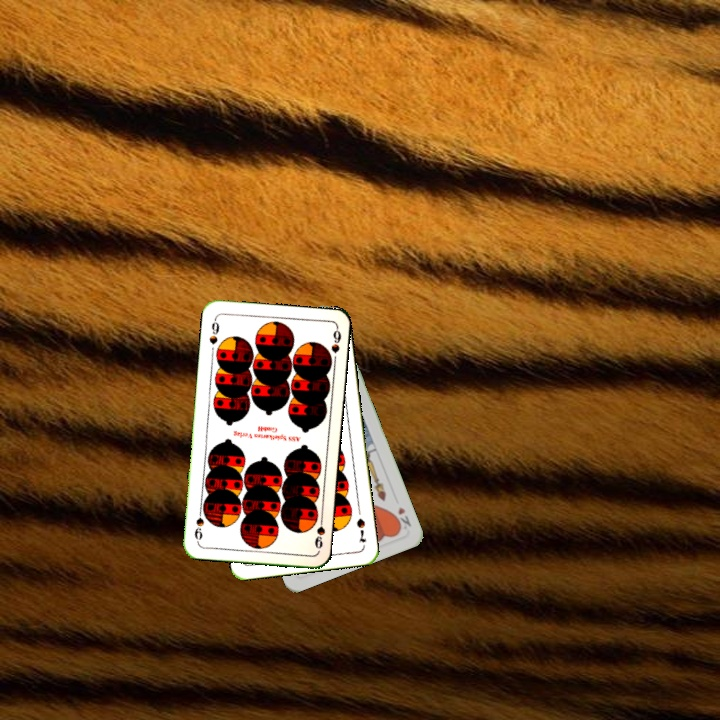HK: (390, 503, 414, 533)
S7: (352, 514, 369, 545)
S9: (308, 512, 328, 553), (206, 314, 222, 347)
